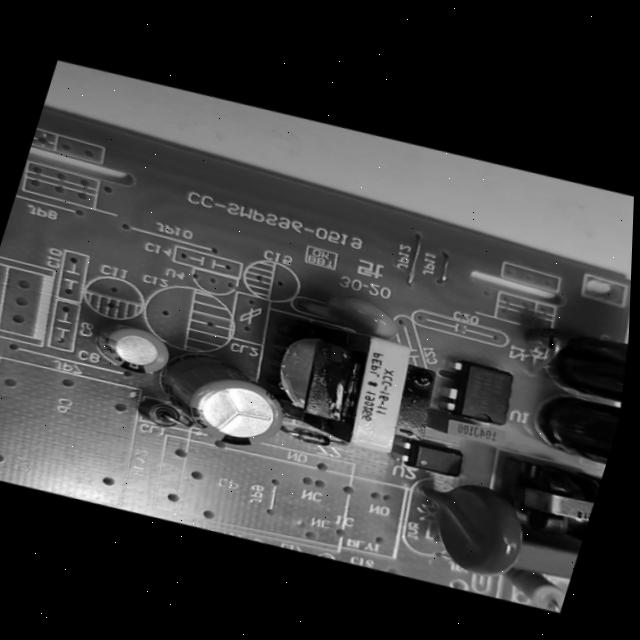Cap1: (138, 336, 303, 466)
Cap2: (91, 314, 181, 388)
Cap3: (513, 378, 624, 475)
Cap4: (531, 315, 629, 410)
MOSFET: (435, 352, 529, 437)
Mov: (399, 461, 544, 593)
Resistor: (494, 559, 570, 619)
Transformer: (232, 294, 464, 483), (488, 447, 602, 549)
